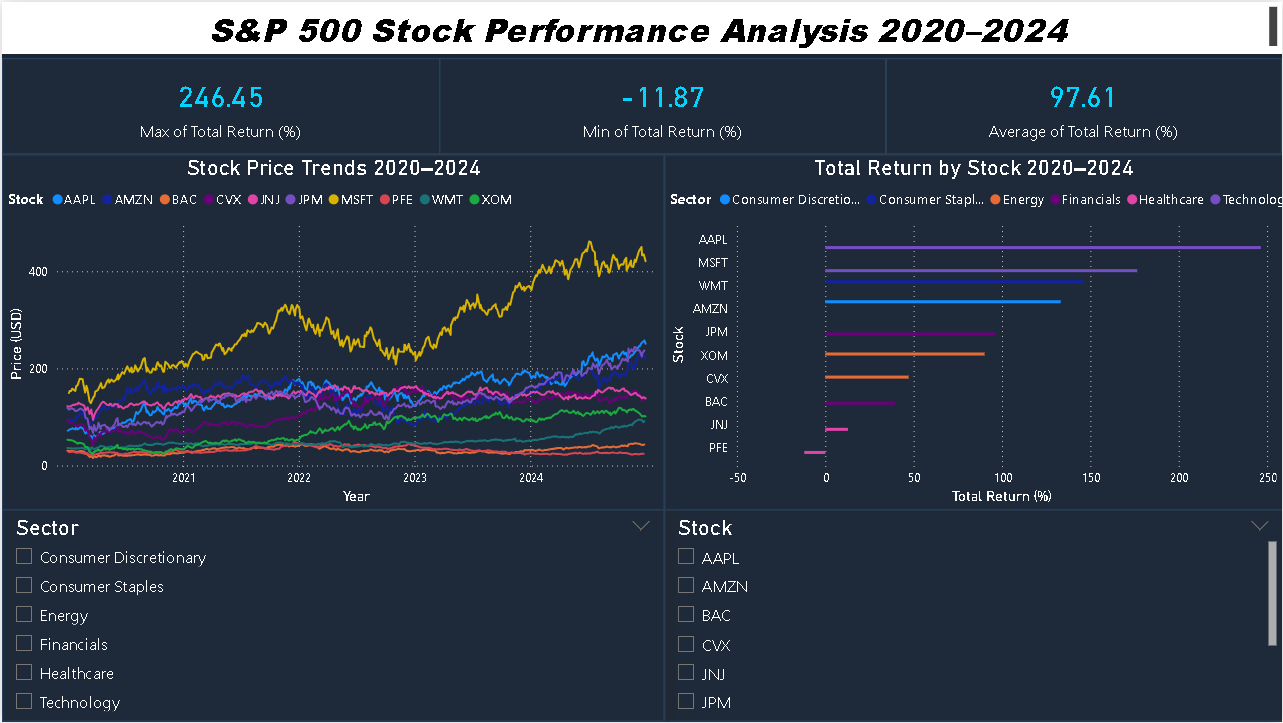

The page's visual inventory and layout, read from the dashboard file:
{"tool":"powerbi","page":{"name":"Page 1","canvas":[1280,720],"ordinal":0},"visuals":[{"type":"card","fields":{"Values":["Max(sp500_total_returns.Total Return (%))"]},"box":[0,56,438,96],"z":0},{"type":"card","fields":{"Values":["Min(sp500_total_returns.Total Return (%))"]},"box":[438,56,446,96],"z":1000},{"type":"card","fields":{"Values":["Avg(sp500_total_returns.Total Return (%))"]},"box":[884,56,396,96],"z":2000},{"type":"lineChart","title":"Stock Price Trends 2020–2024","fields":{"Category":["sp500_closing_prices.Date.Variation.Date Hierarchy.Year","sp500_closing_prices.Date.Variation.Date Hierarchy.Quarter","sp500_closing_prices.Date.Variation.Date Hierarchy.Month","sp500_closing_prices.Date.Variation.Date Hierarchy.Day"],"Y":["Sum(sp500_closing_prices.CLose Price)"],"Series":["sp500_closing_prices.Stock"]},"box":[0,152,662,356],"z":3000},{"type":"clusteredBarChart","title":"Total Return by Stock 2020–2024","fields":{"Category":["sp500_total_returns.Stock"],"Y":["Sum(sp500_total_returns.Total Return (%))"],"Series":["sp500_total_returns.Sector"]},"box":[662,152,618,356],"z":4000},{"type":"slicer","fields":{"Values":["sp500_closing_prices.Stock"]},"box":[662,508,618,212],"z":5000},{"type":"slicer","fields":{"Values":["sp500_total_returns.Sector"]},"box":[0,508,662,212],"z":5001},{"type":"textbox","box":[0,0,1280,52],"z":5002}]}

Visuals, with their boxes in screenshot pixels (x1, y1, x2, y2), scaled from the page's 1280x720 canvas onto the 1283x723 screenshot:
card - Max(sp500_total_returns.Total Return (%)): select_region(0, 56, 439, 153)
card - Min(sp500_total_returns.Total Return (%)): select_region(439, 56, 886, 153)
card - Avg(sp500_total_returns.Total Return (%)): select_region(886, 56, 1282, 153)
"Stock Price Trends 2020–2024" lineChart: select_region(0, 153, 664, 510)
"Total Return by Stock 2020–2024" clusteredBarChart: select_region(664, 153, 1282, 510)
slicer - sp500_closing_prices.Stock: select_region(664, 510, 1282, 722)
slicer - sp500_total_returns.Sector: select_region(0, 510, 664, 722)
textbox: select_region(0, 0, 1282, 52)
